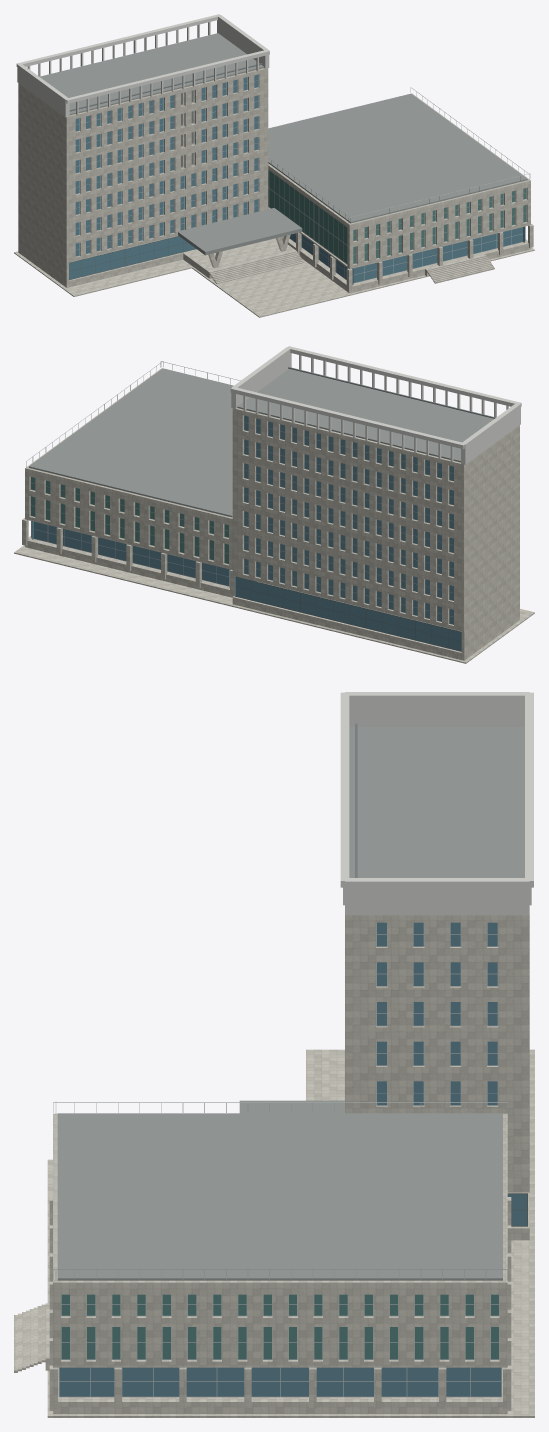
3 renders of one model, top to bottom at view 1: azimuth 30°, elevation 25°; view 2: azimuth 150°, elevation 25°; view 3: azimuth 270°, elevation 25°, orthographic. The views are drawn at different scales.
Parts seen in each view (by area): view 1: main__roof, main__tower-stone, main__wing-stone, main__foundation, main__tower-endwall, main__tower-glass, main__roof-frame, main__lobby-glass, main__wing-glass, main__frame, main__canopy, main__threshold-main (+5 smaller); view 2: main__tower-stone, main__roof, main__wing-stone, main__tower-endwall, main__tower-glass, main__roof-frame, main__foundation, main__lobby-glass, main__frame, main__wing-glass, main__lobby-frame, main__reveal (+1 smaller); view 3: main__roof, main__wing-stone, main__tower-stone, main__foundation, main__roof-frame, main__lobby-glass, main__wing-glass, main__frame, main__tower-glass, main__wing-stairs, main__terrace-rail, main__canopy.
Boxes of the visible parts, x1=… form: main__roof: x1=40, y1=33, x2=527, y2=223; main__tower-stone: x1=66, y1=68, x2=268, y2=262; main__wing-stone: x1=268, y1=93, x2=533, y2=292; main__foundation: x1=14, y1=236, x2=534, y2=317; main__tower-endwall: x1=18, y1=83, x2=68, y2=281; main__tower-glass: x1=75, y1=74, x2=258, y2=256; main__roof-frame: x1=16, y1=14, x2=269, y2=117; main__lobby-glass: x1=69, y1=226, x2=525, y2=284; main__wing-glass: x1=268, y1=170, x2=526, y2=263; main__frame: x1=76, y1=74, x2=526, y2=284; main__canopy: x1=178, y1=208, x2=302, y2=255; main__threshold-main: x1=182, y1=238, x2=297, y2=278; main__tower-stone: x1=232, y1=408, x2=464, y2=631; main__roof: x1=29, y1=368, x2=493, y2=517; main__wing-stone: x1=22, y1=368, x2=235, y2=596; main__tower-endwall: x1=461, y1=425, x2=519, y2=653; main__tower-glass: x1=244, y1=415, x2=453, y2=624; main__roof-frame: x1=230, y1=346, x2=521, y2=464; main__foundation: x1=14, y1=536, x2=534, y2=663; main__lobby-glass: x1=31, y1=521, x2=461, y2=651; main__frame: x1=30, y1=416, x2=453, y2=624; main__wing-glass: x1=31, y1=477, x2=228, y2=563; main__lobby-frame: x1=234, y1=576, x2=461, y2=651; main__reveal: x1=288, y1=367, x2=495, y2=418; main__roof: x1=57, y1=727, x2=524, y2=1280; main__wing-stone: x1=49, y1=1113, x2=511, y2=1410; main__tower-stone: x1=345, y1=915, x2=529, y2=1192; main__foundation: x1=47, y1=1049, x2=534, y2=1417; main__roof-frame: x1=340, y1=692, x2=533, y2=915; main__lobby-glass: x1=59, y1=1194, x2=526, y2=1396; main__wing-glass: x1=61, y1=1294, x2=498, y2=1359; main__frame: x1=58, y1=922, x2=501, y2=1397; main__tower-glass: x1=377, y1=922, x2=497, y2=1105; main__wing-stairs: x1=14, y1=1304, x2=45, y2=1372; main__terrace-rail: x1=53, y1=1101, x2=507, y2=1280; main__canopy: x1=239, y1=1100, x2=344, y2=1113.
Size of the model in its own units: 79.13 by 36.42 by 47.55.
Materials: 8 (1 with a texture image).
